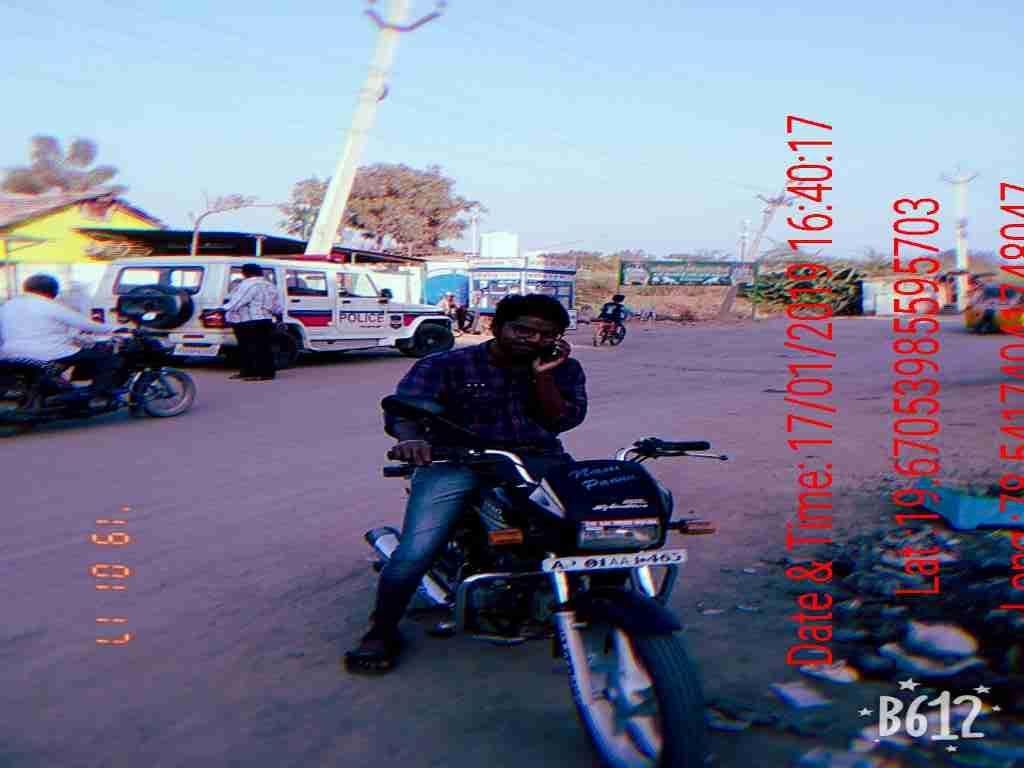plate: (536, 548, 693, 571)
